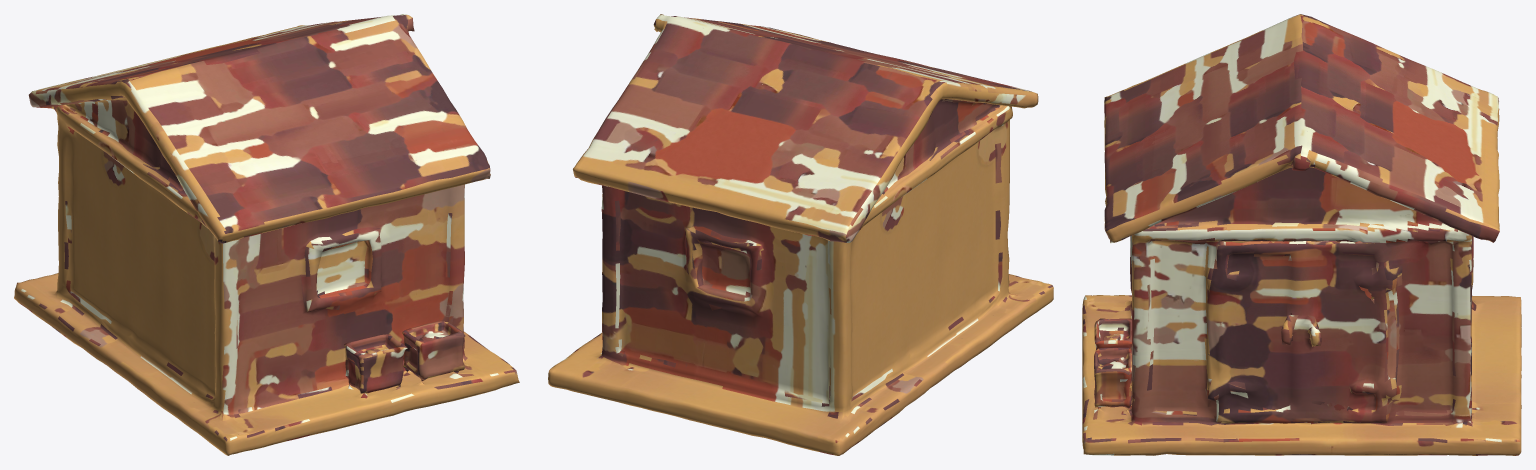
Rendered from B09_StorageShed.fbx.
The picture shows the model from 3 angles, left to right: view 1: azimuth 30°, elevation 25°; view 2: azimuth 150°, elevation 25°; view 3: azimuth 270°, elevation 25°; orthographic projection.
Parts seen in each view (by area): view 1: tripo_node_52ccf6ba; view 2: tripo_node_52ccf6ba; view 3: tripo_node_52ccf6ba.
Part boxes in pixels (bbox=[...]): tripo_node_52ccf6ba: bbox=[14, 14, 519, 455]; tripo_node_52ccf6ba: bbox=[548, 14, 1053, 455]; tripo_node_52ccf6ba: bbox=[1082, 14, 1521, 455].
Size of the model in its own units: 0.7697 by 0.7458 by 0.9799.
